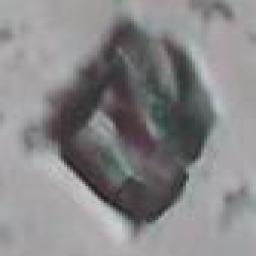crystals: (50, 26, 221, 228)
